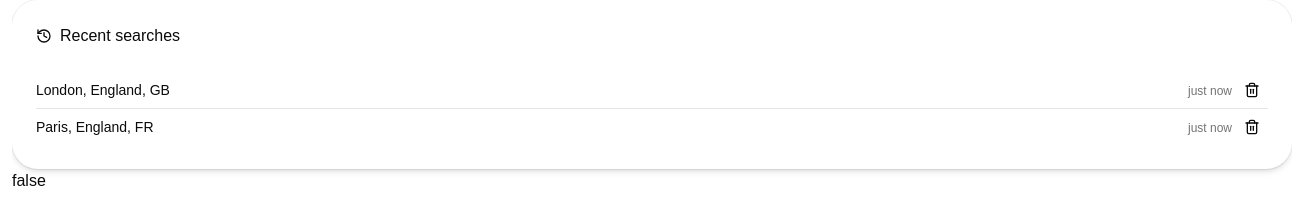
SearchHistory › deletes an item and refetches the list
Expected: the list with test id "history-list" is shown, [36,72,1268,145]
Click the button named "Delete London from history" at (1252, 90), box [1236,74,1268,106]
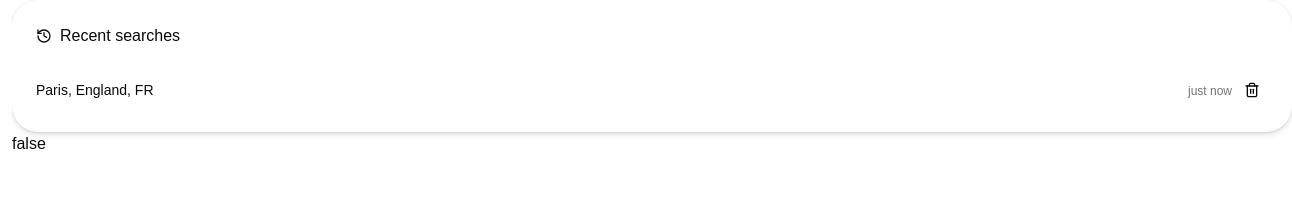
Expected: the text "Paris, England, FR" is shown, [36,80,154,100]
Now the button "London, England, GB" is gone
